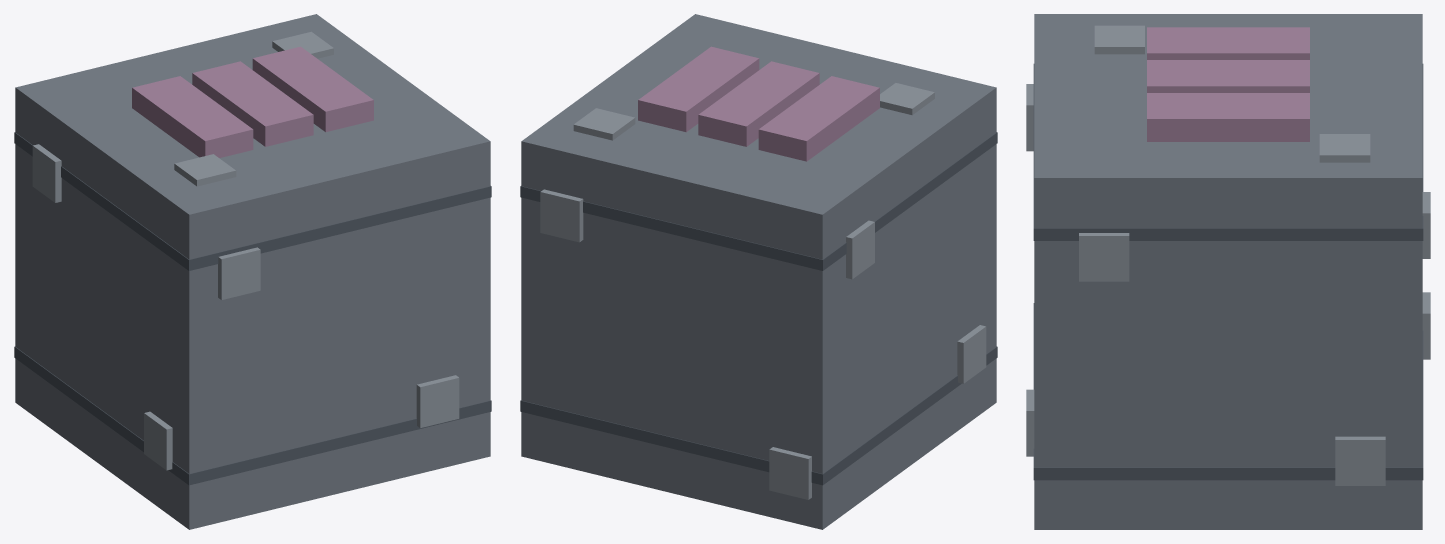
The model's file is hive_chitin_ore_block.glb.
The picture shows the model from 3 angles, left to right: view 1: azimuth 30°, elevation 25°; view 2: azimuth 150°, elevation 25°; view 3: azimuth 270°, elevation 25°; orthographic projection. The views are drawn at different scales.
Visible parts, largest first — view 1: dark_stone_core, chitin_plate, chitin_plate_1, chitin_plate_2, dark_seam_1, dark_seam, stone_chip_1, stone_chip, stone_chip_6, stone_chip_7, stone_chip_8, stone_chip_9; view 2: dark_stone_core, chitin_plate, chitin_plate_1, chitin_plate_2, dark_seam, dark_seam_1, stone_chip_3, stone_chip_2, stone_chip_7, stone_chip_6, stone_chip_9, stone_chip_8; view 3: dark_stone_core, chitin_plate_2, chitin_plate, chitin_plate_1, dark_seam_1, dark_seam, stone_chip_5, stone_chip_4, stone_chip_8, stone_chip_9, stone_chip_1, stone_chip_2 (+2 smaller).
Boxes of the visible parts, x1=… form: dark_stone_core: x1=15, y1=14, x2=490, y2=529; chitin_plate: x1=132, y1=76, x2=253, y2=157; chitin_plate_1: x1=192, y1=61, x2=313, y2=146; chitin_plate_2: x1=252, y1=46, x2=373, y2=132; dark_seam_1: x1=14, y1=132, x2=491, y2=270; dark_seam: x1=14, y1=346, x2=491, y2=485; stone_chip_1: x1=416, y1=375, x2=459, y2=427; stone_chip: x1=218, y1=247, x2=260, y2=300; stone_chip_6: x1=32, y1=144, x2=61, y2=202; stone_chip_7: x1=144, y1=411, x2=172, y2=470; stone_chip_8: x1=174, y1=154, x2=236, y2=186; stone_chip_9: x1=272, y1=31, x2=333, y2=58; dark_stone_core: x1=521, y1=14, x2=996, y2=529; chitin_plate: x1=758, y1=76, x2=879, y2=161; chitin_plate_1: x1=698, y1=61, x2=819, y2=146; chitin_plate_2: x1=638, y1=46, x2=759, y2=132; dark_seam: x1=520, y1=346, x2=997, y2=485; dark_seam_1: x1=520, y1=132, x2=997, y2=270; stone_chip_3: x1=540, y1=189, x2=583, y2=242; stone_chip_2: x1=769, y1=447, x2=811, y2=499; stone_chip_7: x1=957, y1=325, x2=986, y2=383; stone_chip_6: x1=846, y1=220, x2=874, y2=279; stone_chip_9: x1=573, y1=108, x2=635, y2=140; stone_chip_8: x1=880, y1=83, x2=934, y2=115; dark_stone_core: x1=1034, y1=14, x2=1422, y2=529; chitin_plate_2: x1=1147, y1=93, x2=1309, y2=141; chitin_plate: x1=1147, y1=27, x2=1309, y2=59; chitin_plate_1: x1=1147, y1=60, x2=1309, y2=92; dark_seam_1: x1=1033, y1=64, x2=1423, y2=240; dark_seam: x1=1033, y1=303, x2=1423, y2=480; stone_chip_5: x1=1335, y1=436, x2=1385, y2=485; stone_chip_4: x1=1079, y1=233, x2=1129, y2=281; stone_chip_8: x1=1094, y1=25, x2=1144, y2=54; stone_chip_9: x1=1319, y1=134, x2=1370, y2=162; stone_chip_1: x1=1026, y1=389, x2=1034, y2=456; stone_chip_2: x1=1422, y1=292, x2=1430, y2=359.
Bounding box in the file's own units: 1.04 × 1.09 × 1.04.
